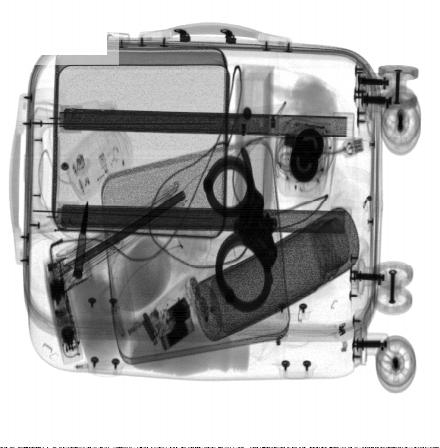Bullet: (71, 199, 88, 281)
HandCuffs: (202, 146, 278, 313)
